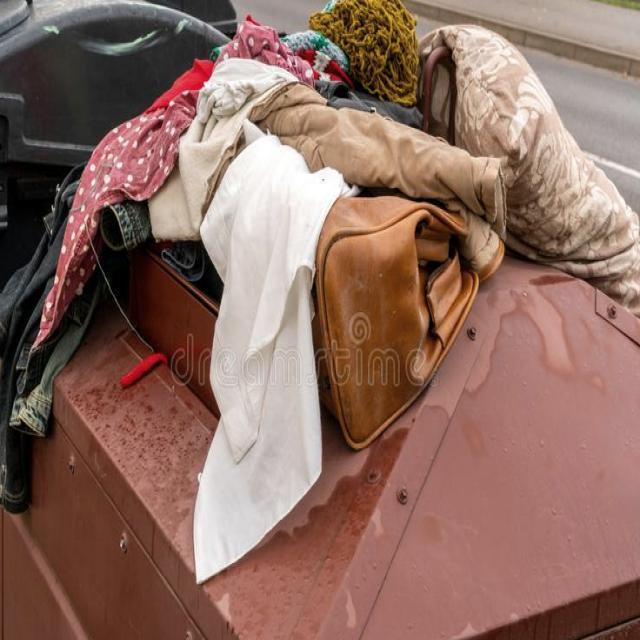clothes: (92, 69, 525, 393)
